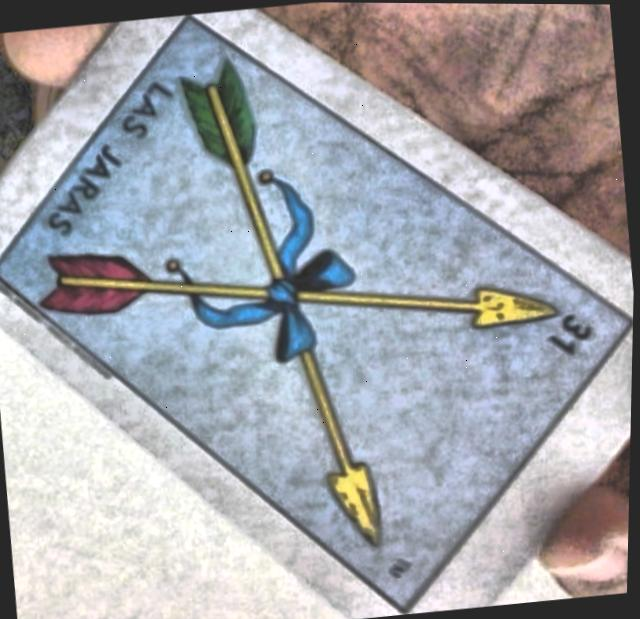Las Jaras: (0, 15, 634, 603)
